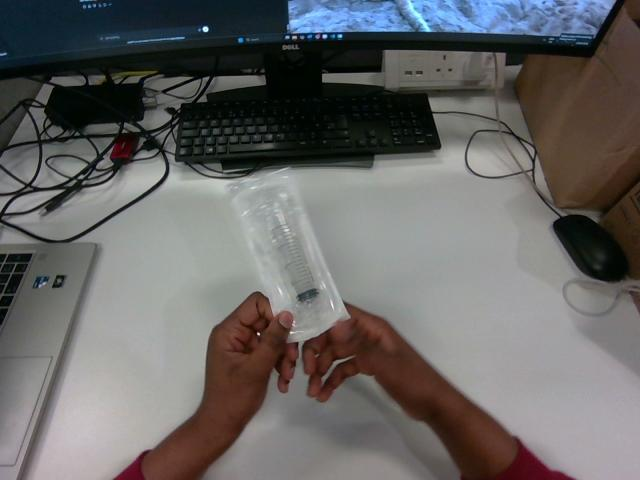syringe: (229, 170, 348, 341)
